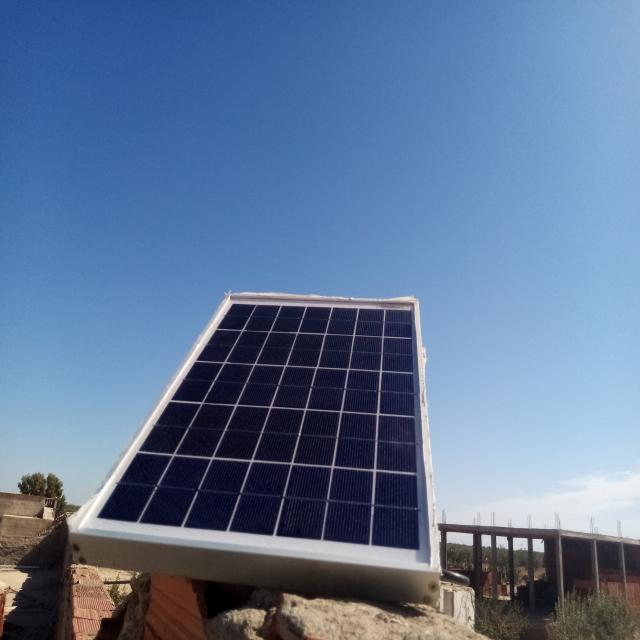Normal Solar Panel: (69, 291, 437, 578)
